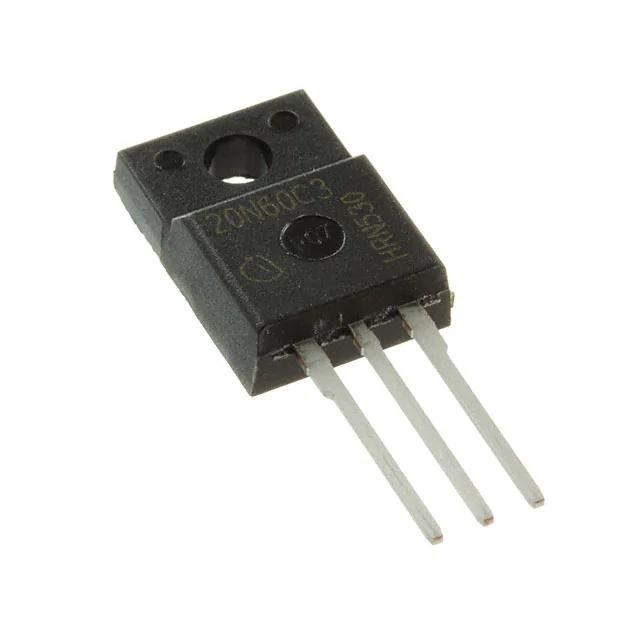Transistor: (102, 79, 545, 548)
